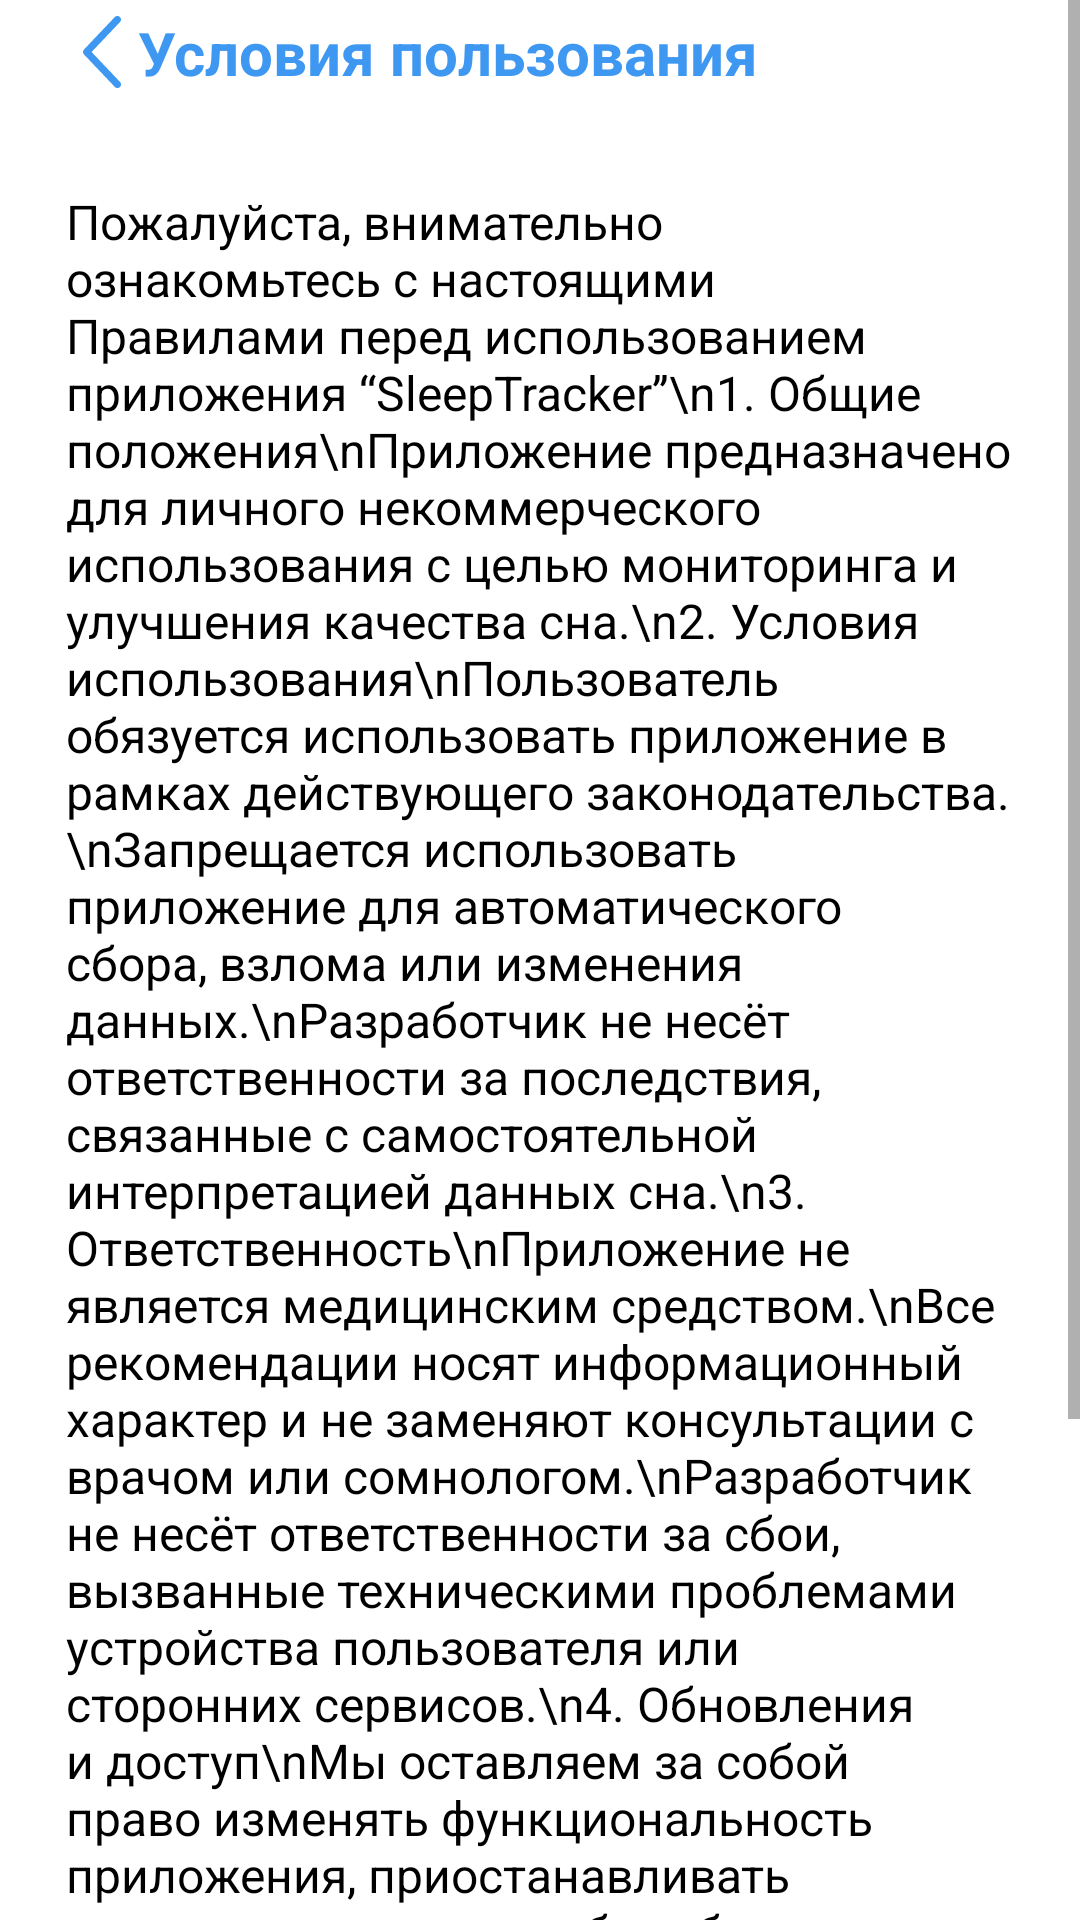

Named icons in this screenshot (1080 × 1920) and their bounding boxes, bbox=[x1, y1, x2, y2]:
Back button terms: bbox=[83, 16, 121, 88]
